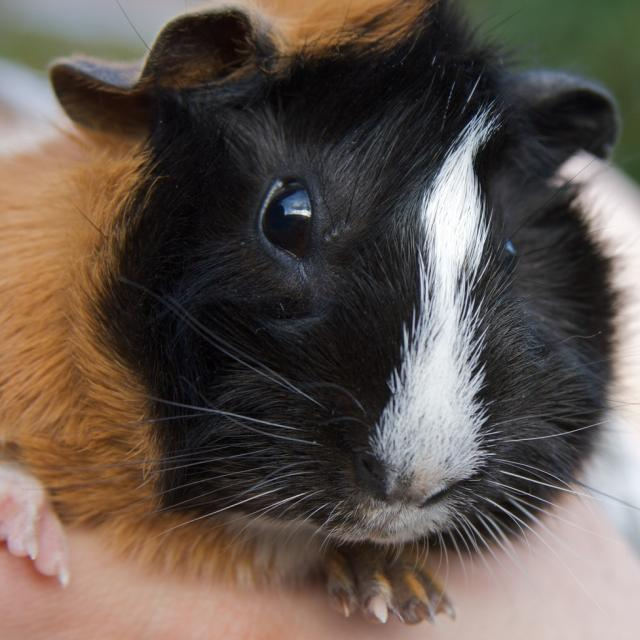rat: (0, 0, 637, 625)
